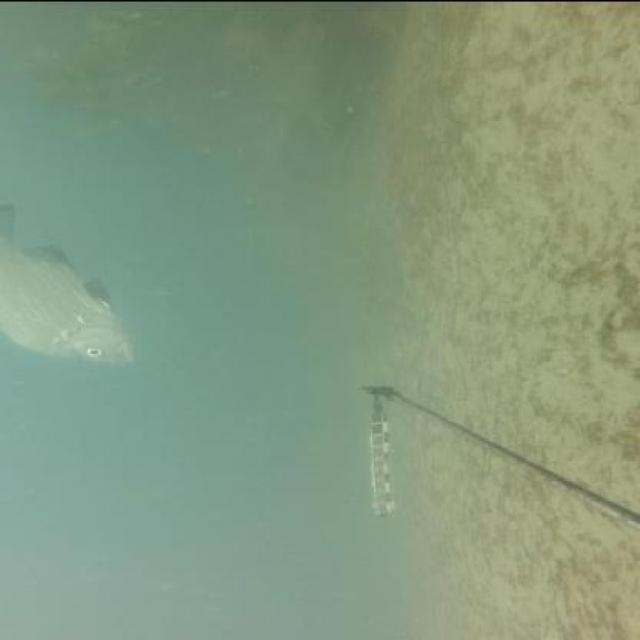acanthopagrus_palmaris: (6, 205, 142, 363)
